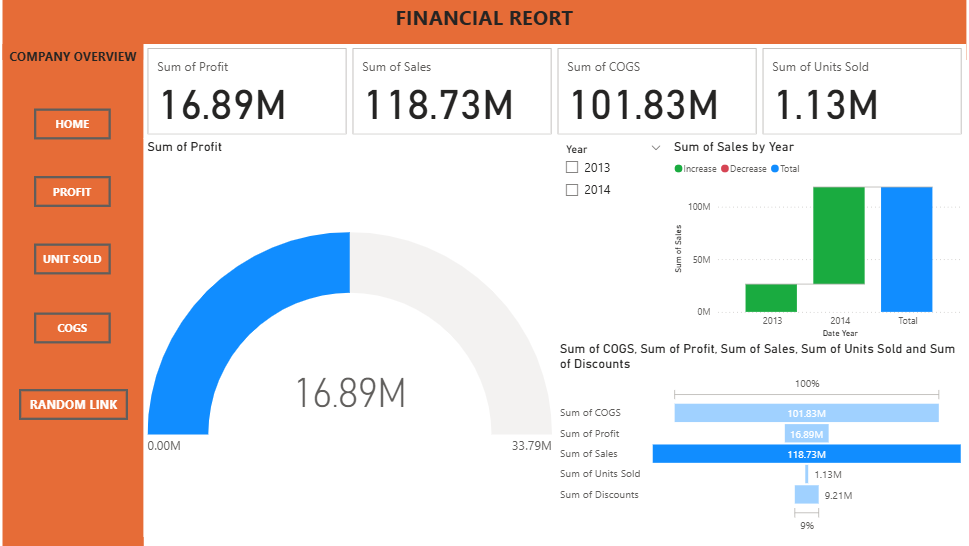

The page's visual inventory and layout, read from the dashboard file:
{"tool":"powerbi","page":{"name":"HOME","canvas":[1280,720],"ordinal":0},"visuals":[{"type":"textbox","box":[9.7,0,1259.8,79.3],"z":0},{"type":"textbox","box":[9.7,58.3,184.6,662.3],"z":1000},{"type":"actionButton","box":[51.8,142.5,100.4,40.5],"z":2000},{"type":"actionButton","box":[51.8,231.5,100.4,40.5],"z":3000},{"type":"actionButton","box":[51.8,319,100.4,40.5],"z":4000},{"type":"actionButton","box":[51.8,409.7,100.4,40.5],"z":5000},{"type":"funnel","fields":{"Y":["Sum(financials.COGS)","Sum(financials.Profit)","Sum(financials. Sales)","Sum(financials.Units Sold)","Sum(financials.Discounts)"]},"box":[733.2,447.6,538.7,255.2],"z":6000},{"type":"cardVisual","fields":{"Data":["Sum(financials.Profit)","Sum(financials. Sales)","Sum(financials.COGS)","Sum(financials.Units Sold)"]},"box":[194.4,58.7,1075.4,123.5],"z":7000},{"type":"slicer","fields":{"Values":["financials.Date.Variation.Date Hierarchy.Year"]},"box":[733.2,182.3,149.9,265.3],"z":8000},{"type":"gauge","fields":{"Y":["Sum(financials.Profit)"]},"box":[194.4,182.3,538.7,520.5],"z":9000},{"type":"waterfallChart","fields":{"Y":["Sum(financials. Sales)"],"Category":["financials.Date.Variation.Date Hierarchy.Year"]},"box":[883,182.3,386.8,265.3],"z":10000},{"type":"actionButton","box":[30.8,510.1,142.5,40.5],"z":11000}]}

Visuals, with their boxes in screenshot pixels (x1, y1, x2, y2), scaled from the page's 1280x720 canvas onto the 969x546 screenshot:
textbox: x1=7, y1=0, x2=961, y2=60
textbox: x1=7, y1=44, x2=147, y2=545
actionButton: x1=39, y1=108, x2=115, y2=139
actionButton: x1=39, y1=176, x2=115, y2=206
actionButton: x1=39, y1=242, x2=115, y2=273
actionButton: x1=39, y1=311, x2=115, y2=341
funnel - Sum(financials.COGS) x Sum(financials.Profit): x1=555, y1=339, x2=963, y2=533
cardVisual - Sum(financials.Profit) x Sum(financials. Sales): x1=147, y1=45, x2=961, y2=138
slicer - financials.Date.Variation.Date Hierarchy.Year: x1=555, y1=138, x2=669, y2=339
gauge - Sum(financials.Profit): x1=147, y1=138, x2=555, y2=533
waterfallChart - Sum(financials. Sales) x financials.Date.Variation.Date Hierarchy.Year: x1=668, y1=138, x2=961, y2=339
actionButton: x1=23, y1=387, x2=131, y2=418
